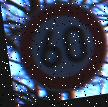Speed Limit -60-: (12, 0, 108, 97)
